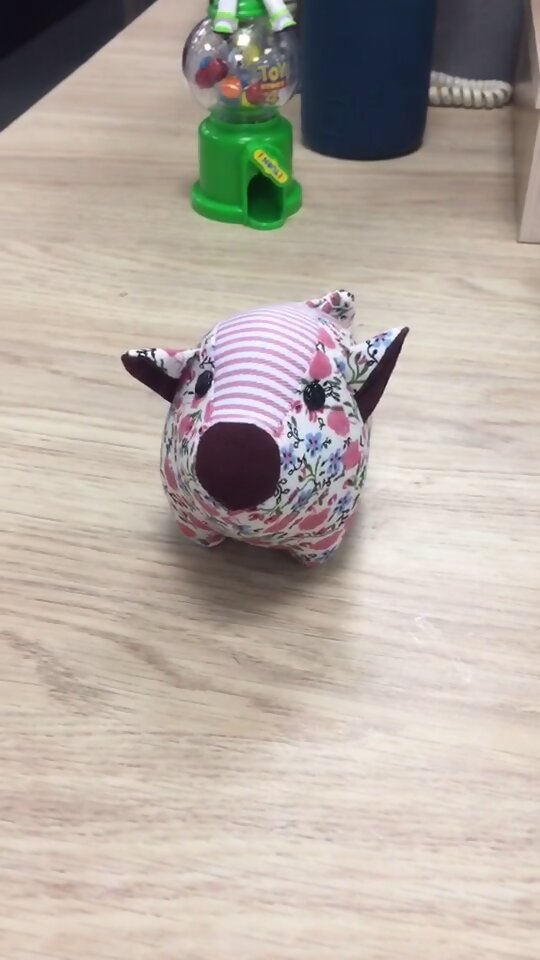pig: (118, 283, 412, 574)
